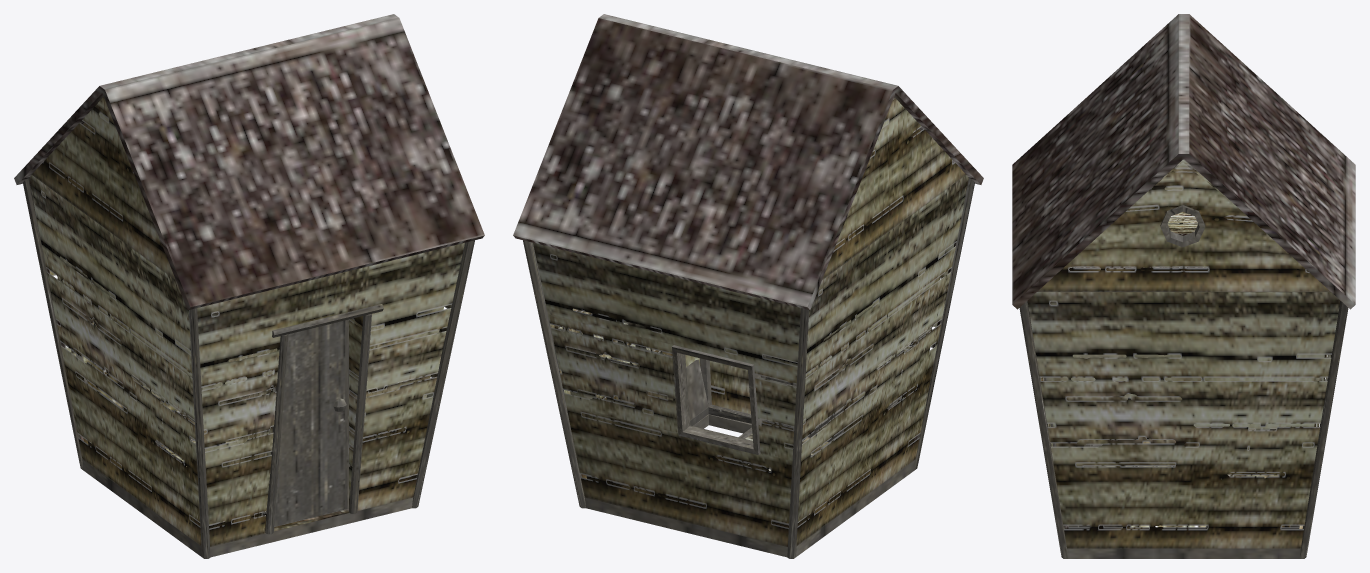
The model's file is FisherHut01.obj.
3 views of the same model, side by side, from view 1: azimuth 30°, elevation 25°; view 2: azimuth 150°, elevation 25°; view 3: azimuth 270°, elevation 25° (orthographic). The views are drawn at different scales.
Visible parts, largest first — view 1: FisherHut01.Base, FisherHut01.Door; view 2: FisherHut01.Base, FisherHut01.Latch; view 3: FisherHut01.Base.
Part boxes in pixels (x1,y1,x2,y2): FisherHut01.Base: [14, 14, 484, 558]; FisherHut01.Door: [273, 320, 346, 526]; FisherHut01.Base: [513, 14, 983, 558]; FisherHut01.Latch: [686, 360, 708, 420]; FisherHut01.Base: [1012, 14, 1355, 558].
Bounding box in the file's own units: 4.4 × 6.22 × 4.57.
